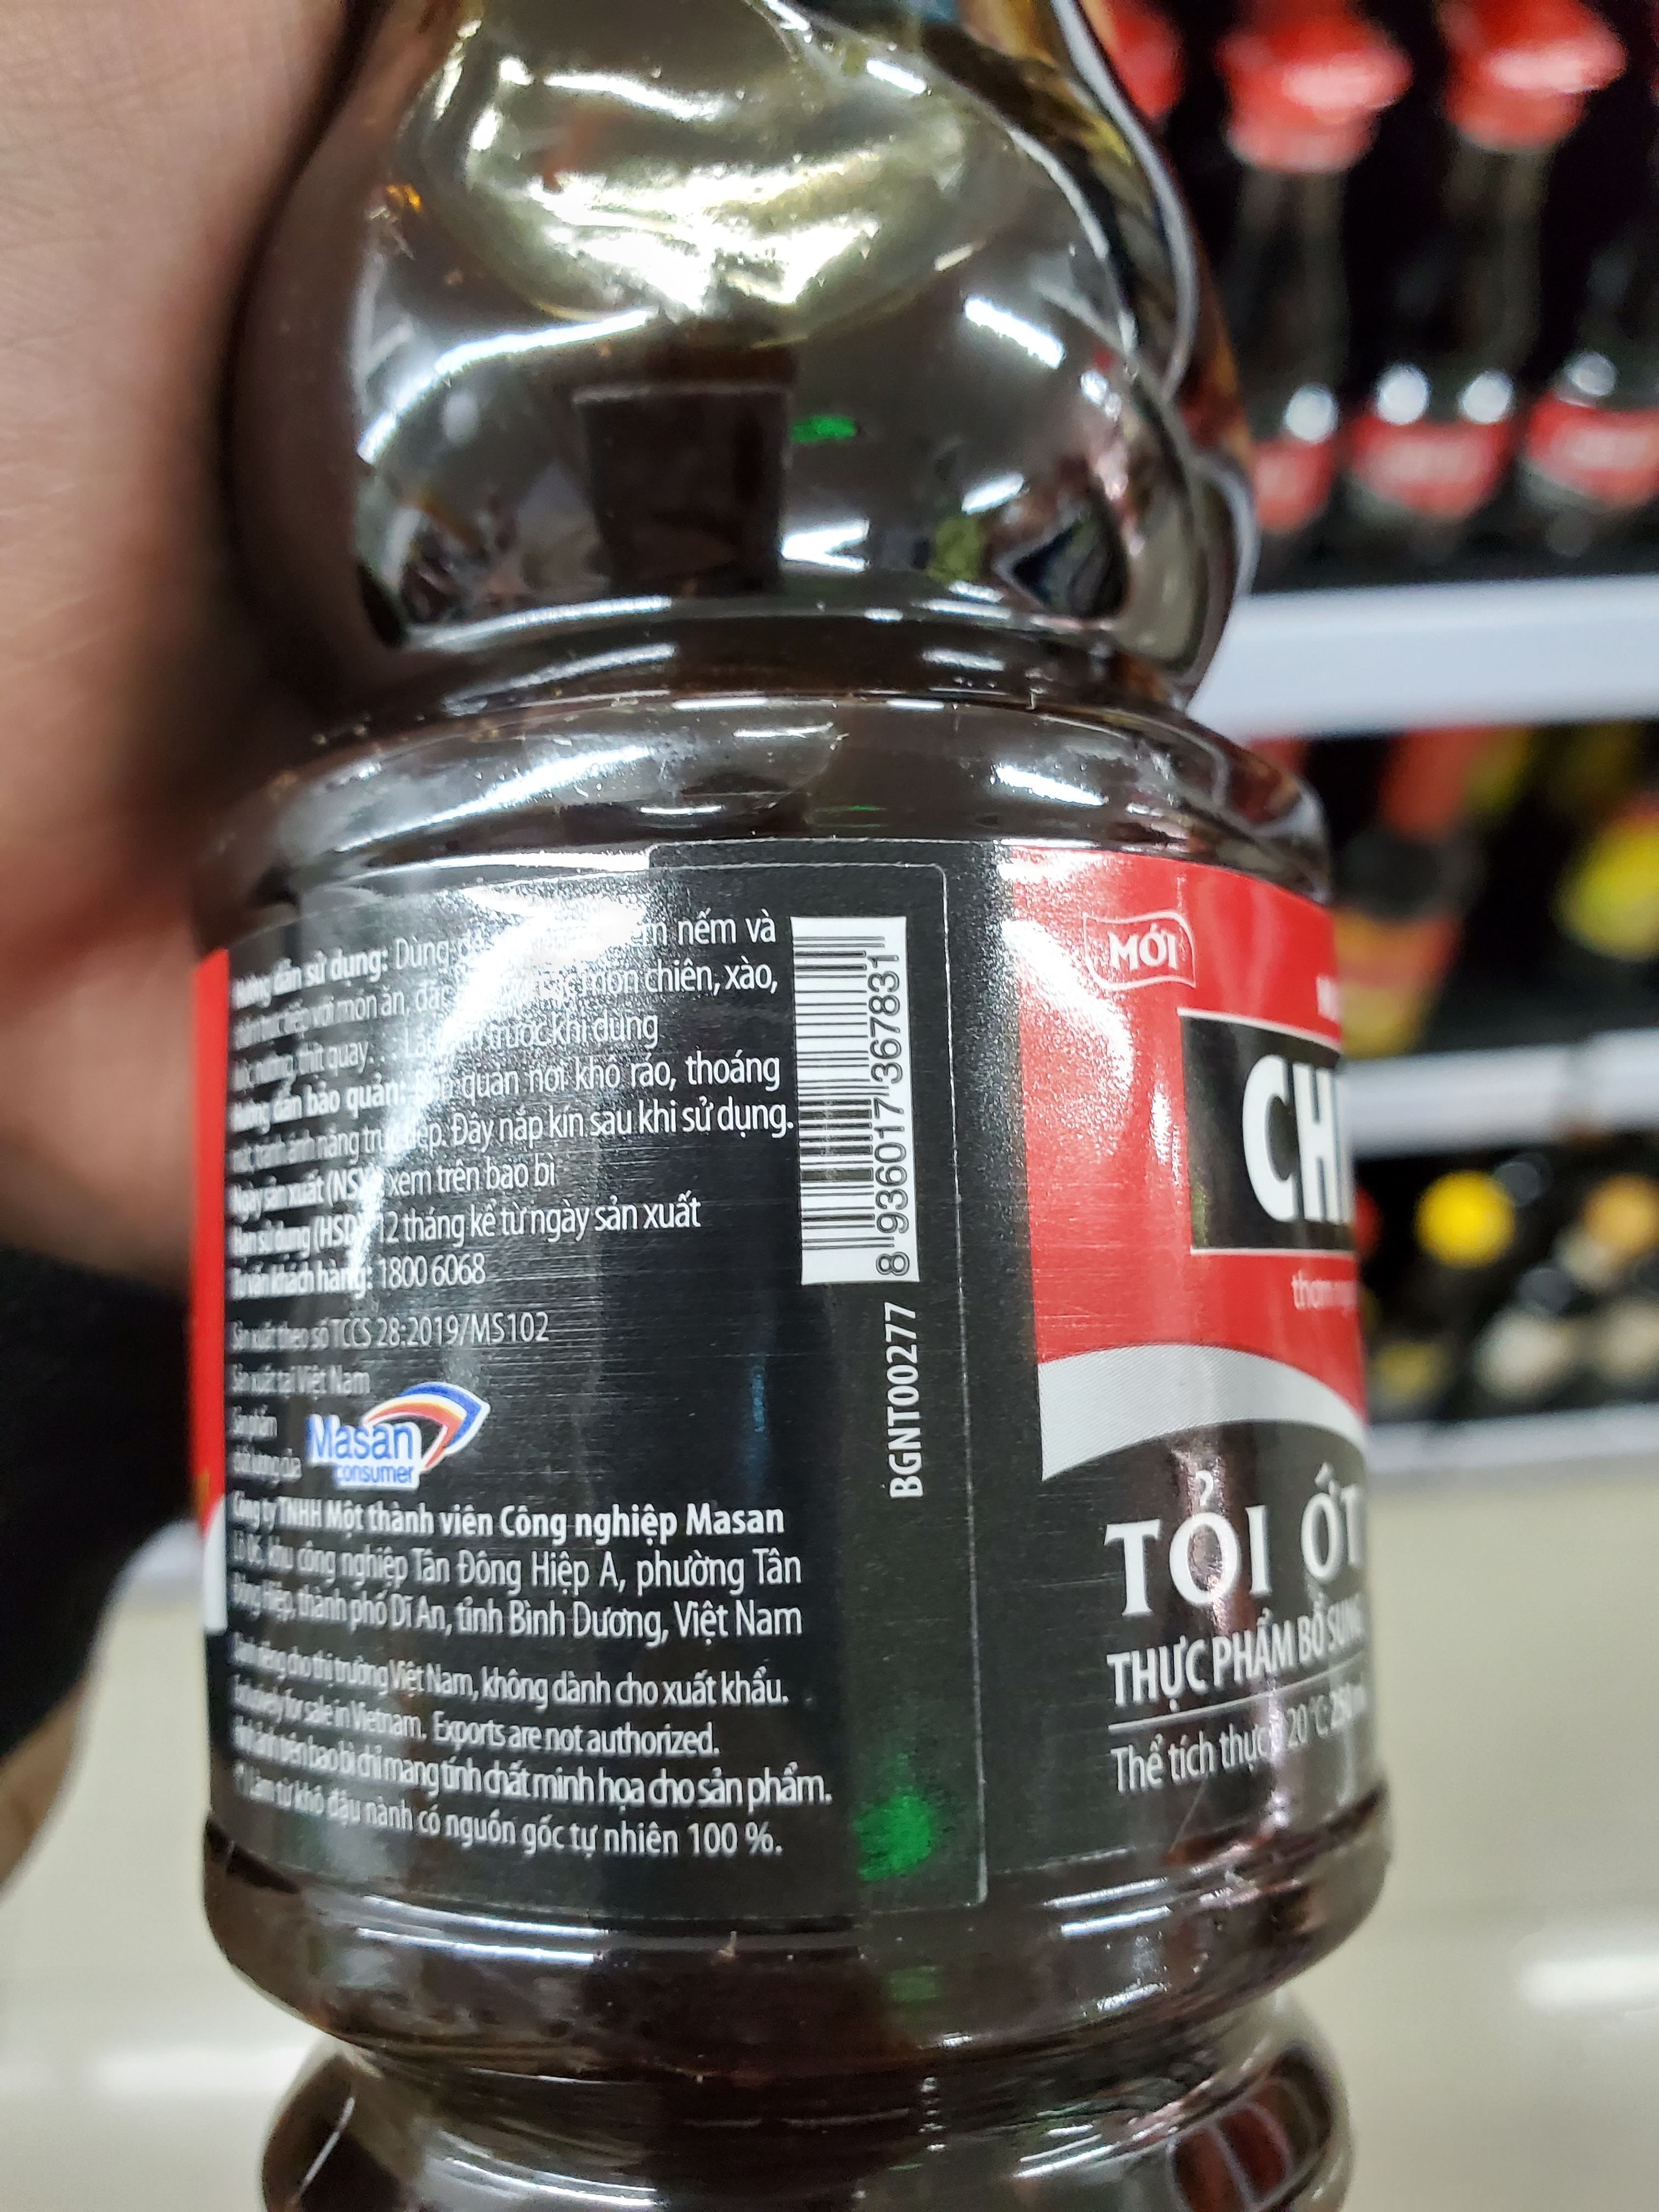barcode: (777, 907, 927, 1284)
